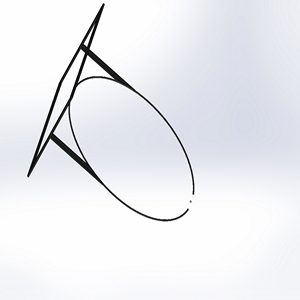circle: (26, 1, 197, 224)
